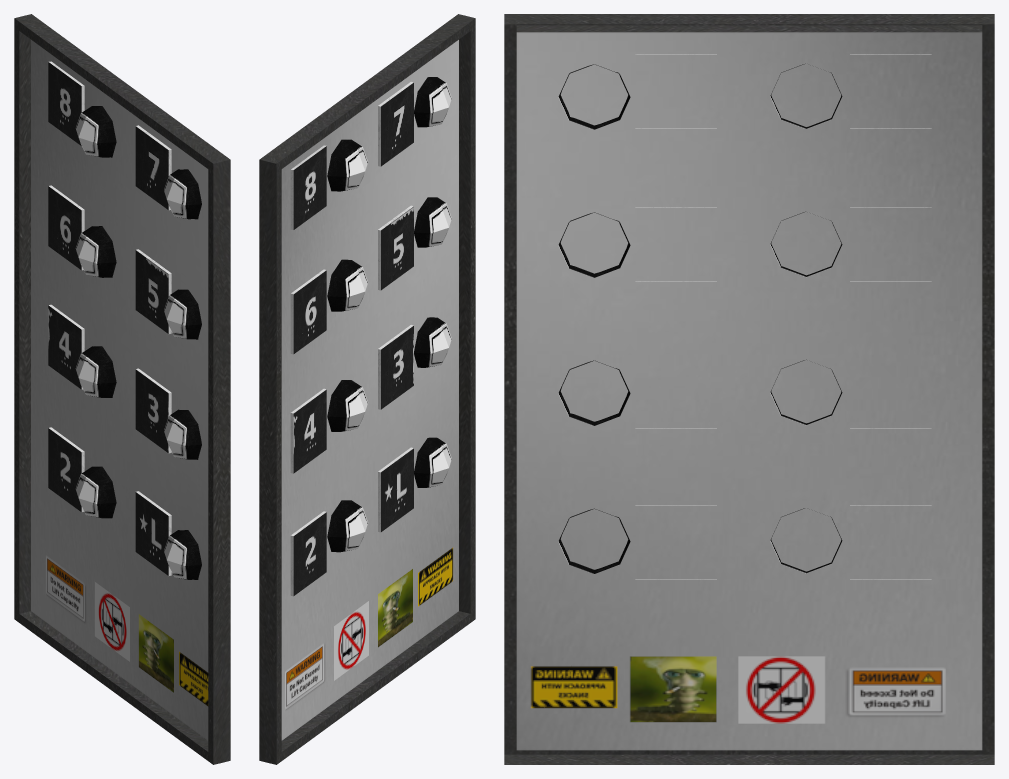
Rendered from MazeGame-InsideBtns.glb.
3 views of the same model, side by side, from view 1: azimuth 30°, elevation 25°; view 2: azimuth 150°, elevation 25°; view 3: azimuth 270°, elevation 25° (orthographic). The views are drawn at different scales.
Parts seen in each view (by area): view 1: BackPlate, Plates, Btns; view 2: BackPlate, Plates, Btns; view 3: BackPlate, Btns, Plates.
Part boxes in pixels (left/top/right/bottom): BackPlate: left=14, top=14, right=230, bottom=764; Plates: left=48, top=61, right=171, bottom=575; Btns: left=75, top=106, right=201, bottom=579; BackPlate: left=259, top=14, right=475, bottom=764; Plates: left=290, top=81, right=413, bottom=596; Btns: left=327, top=77, right=451, bottom=552; BackPlate: left=504, top=14, right=994, bottom=764; Btns: left=558, top=63, right=842, bottom=574; Plates: left=635, top=54, right=931, bottom=579.
Size of the model in its own units: 0.0513 by 1 by 0.6.
3 materials, 3 textured.
